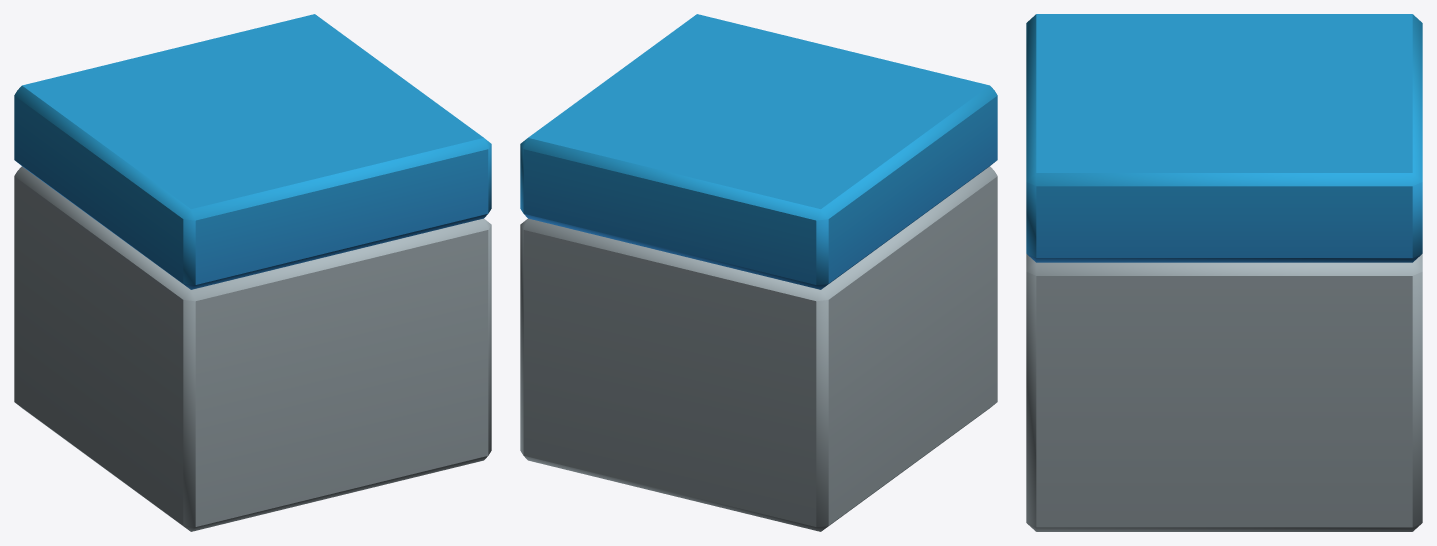
File: platform_2x2x2_blue.glb
3 views of the same model, side by side, from view 1: azimuth 30°, elevation 25°; view 2: azimuth 150°, elevation 25°; view 3: azimuth 270°, elevation 25° (orthographic). The views are drawn at different scales.
Visible parts, largest first — view 1: platform_2x2x2_blue; view 2: platform_2x2x2_blue; view 3: platform_2x2x2_blue.
Boxes of the visible parts, <box> form: platform_2x2x2_blue: <box>14,14,491,531</box>; platform_2x2x2_blue: <box>520,14,997,531</box>; platform_2x2x2_blue: <box>1026,14,1422,531</box>.
Size of the model in its own units: 2 by 2 by 2.
Materials: 1 (1 with a texture image).
